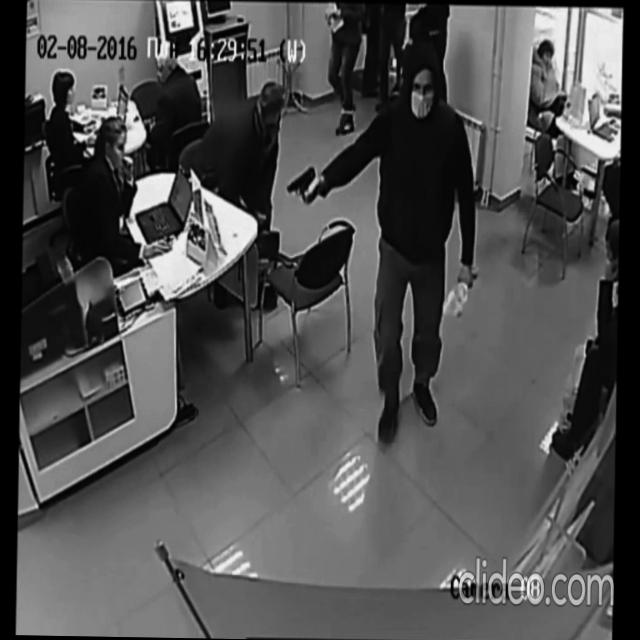gun: (286, 163, 316, 198)
person: (190, 76, 284, 248), (73, 113, 173, 269), (525, 38, 580, 184), (44, 68, 99, 183), (324, 0, 366, 138)
person with a gun: (283, 36, 480, 450)
